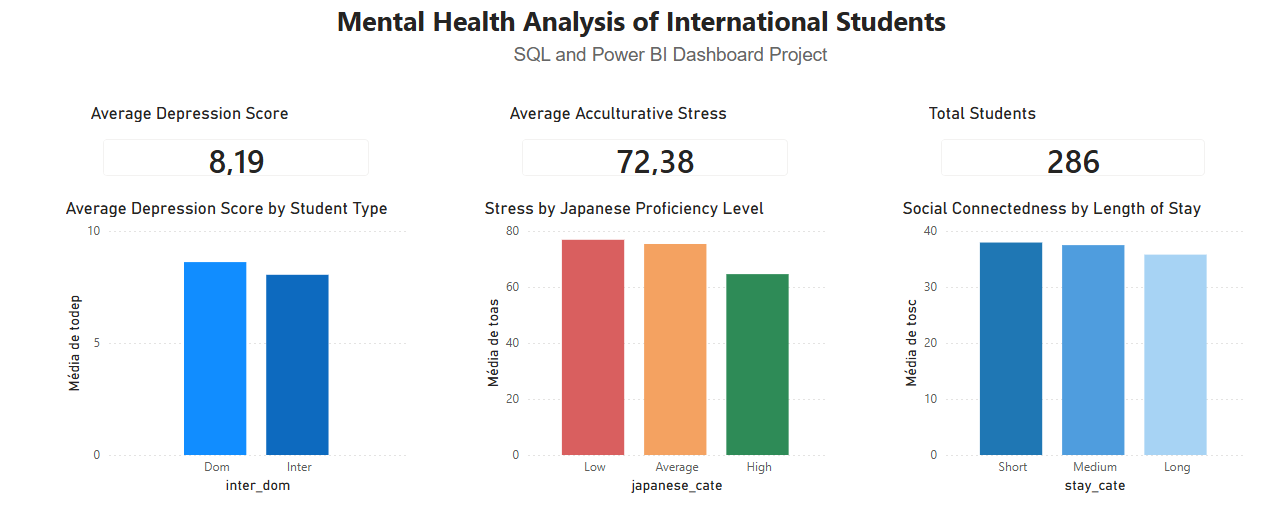

The page's visual inventory and layout, read from the dashboard file:
{"tool":"powerbi","page":{"name":"Mental Health Analysis of International Students","canvas":[1280,720],"ordinal":0},"visuals":[{"type":"columnChart","title":"Average Depression Score by Student Type","fields":{"Category":["students.inter_dom"],"Y":["Avg(students.todep)"]},"box":[63,201,350,300],"z":0},{"type":"columnChart","title":"Stress by Japanese Proficiency Level","fields":{"Category":["students.japanese_cate"],"Y":["Avg(students.toas)"]},"box":[481.5,201,350,300],"z":1000},{"type":"columnChart","title":"Social Connectedness by Length of Stay","fields":{"Category":["students.stay_cate"],"Y":["Avg(students.tosc)"]},"box":[900,201,350,300],"z":2000},{"type":"textbox","box":[334,0,684.2,50.1],"z":3000},{"type":"cardVisual","title":"Average Depression Score","fields":{"Data":["Avg(students.todep)"]},"box":[88,106,300,90],"z":4000},{"type":"cardVisual","title":"Average Acculturative Stress","fields":{"Data":["Avg(students.toas)"]},"box":[507,106,300,90],"z":5000},{"type":"cardVisual","title":"Total Students","fields":{"Data":["students.Total Students"]},"box":[926,106,298,90],"z":6000},{"type":"textbox","box":[511,42,330,32],"z":7000}]}

Visuals, with their boxes on the page's 1280x720 design canvas (x1, y1, x2, y2). These are canvas units, not pixel positions in the 1275x512 screenshot, which may show the page scaled, cropped or inside an application window:
"Average Depression Score by Student Type" columnChart: <region>63, 201, 413, 501</region>
"Stress by Japanese Proficiency Level" columnChart: <region>482, 201, 832, 501</region>
"Social Connectedness by Length of Stay" columnChart: <region>900, 201, 1250, 501</region>
textbox: <region>334, 0, 1018, 50</region>
"Average Depression Score" cardVisual: <region>88, 106, 388, 196</region>
"Average Acculturative Stress" cardVisual: <region>507, 106, 807, 196</region>
"Total Students" cardVisual: <region>926, 106, 1224, 196</region>
textbox: <region>511, 42, 841, 74</region>
